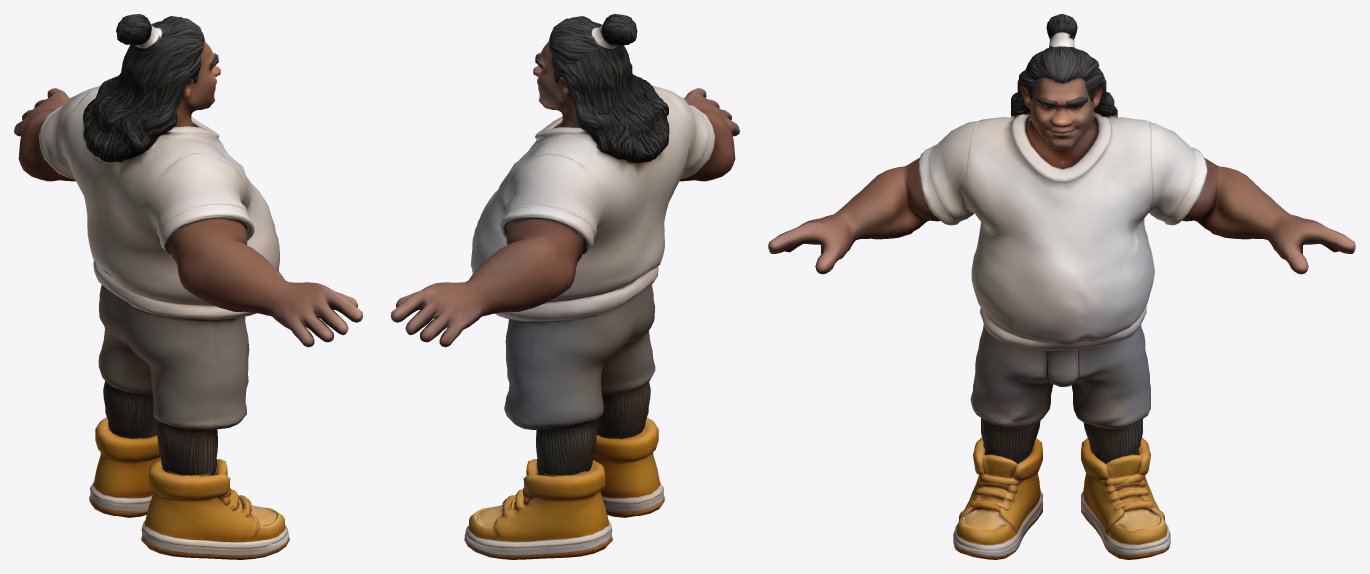
The picture shows the model from 3 angles, left to right: view 1: azimuth 30°, elevation 25°; view 2: azimuth 150°, elevation 25°; view 3: azimuth 270°, elevation 25°; orthographic projection. The views are drawn at different scales.
Parts seen in each view (by area): view 1: tripo_node_03b56fcd; view 2: tripo_node_03b56fcd; view 3: tripo_node_03b56fcd.
Part boxes in pixels (x1,y1,x2,y2): tripo_node_03b56fcd: [14, 14, 362, 559]; tripo_node_03b56fcd: [391, 14, 739, 559]; tripo_node_03b56fcd: [768, 14, 1355, 559].
Bounding box in the file's own units: 33.66 × 93.74 × 100.
1 material, 1 textured.
